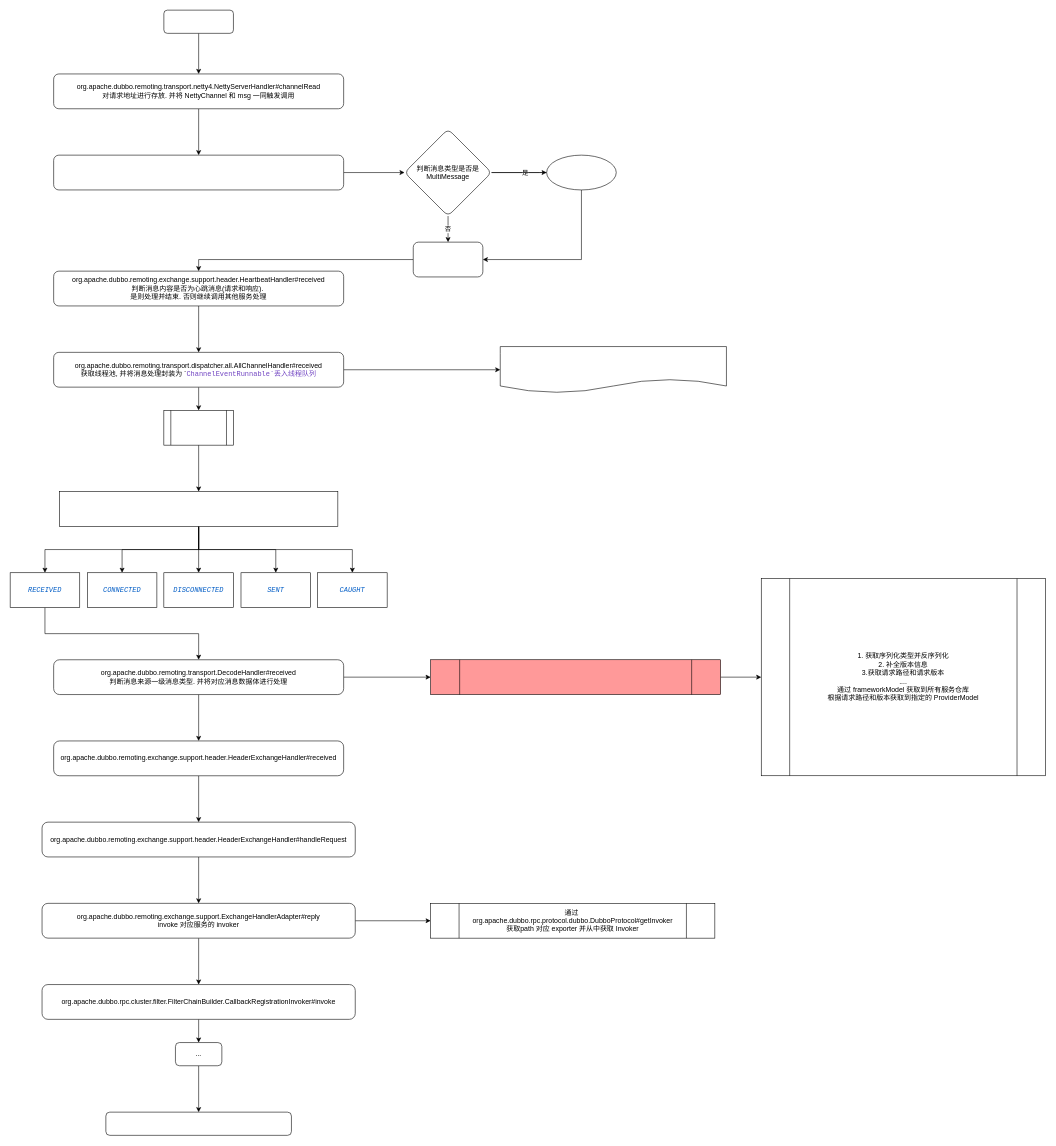
This 1056x1146 diagram has some shape labels left out. Here are the shapes that lost their labels. From the top down, the box of each, then its label:
(163, 10, 233, 33): Dubbo 服务端开始
(53, 155, 344, 190): org.apache.dubbo.remoting.transport.MultiMessageHandler#received 对消息内容进行判断并处理.
(546, 155, 616, 190): 循环
(413, 242, 483, 277): 处理消息
(500, 346, 726, 393): 线程池通过 是 applicationModel.getExtensionLoader().getDefaultExtension() 获取
(163, 410, 233, 445): 异步线程
(59, 491, 338, 526): ChannelEventRunnable 根据当前事件状态执行不同事件逻辑
(430, 659, 721, 695): org.apache.dubbo.rpc.protocol.dubbo.DecodeableRpcInvocation#decode() 消息体信息处理(补全)
(105, 1112, 291, 1135): 通过 javaassist 请求到指定的代理Bean中.
